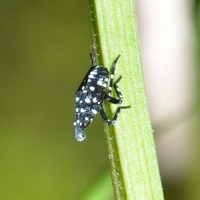insect: (73, 55, 130, 140)
